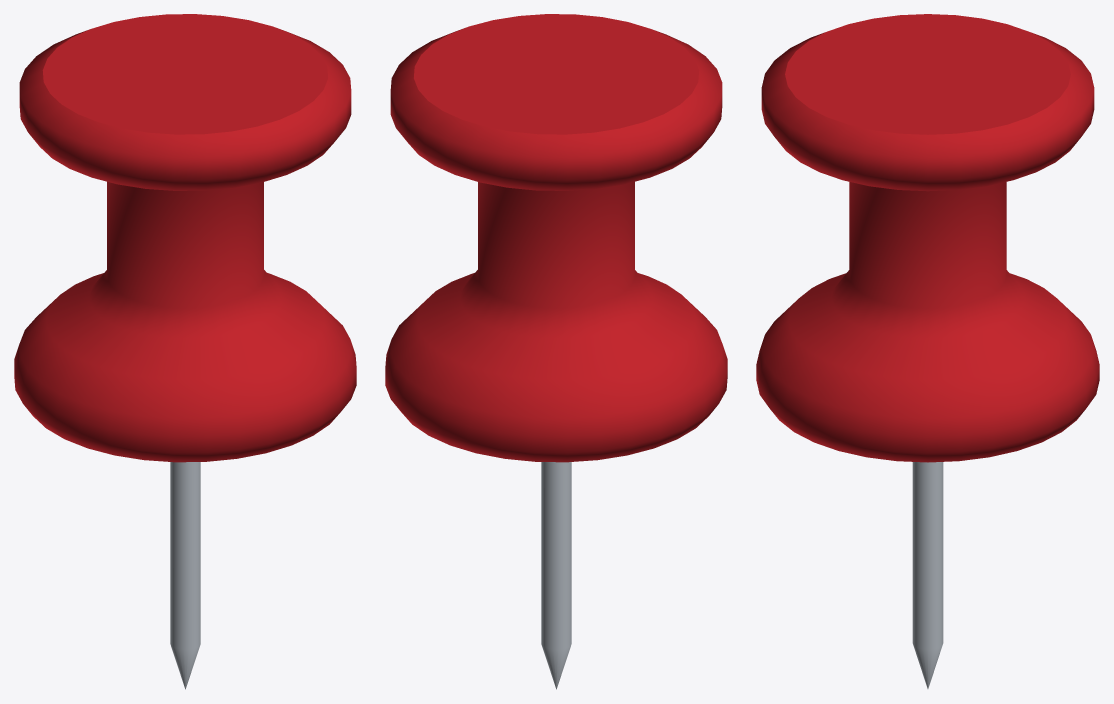
File: pushpin_LOD1.glb
3 renders of one model, left to right at view 1: azimuth 30°, elevation 25°; view 2: azimuth 150°, elevation 25°; view 3: azimuth 270°, elevation 25°, orthographic.
Visible parts, largest first — view 1: Molded_plastic_head, Embedded_steel_pin; view 2: Molded_plastic_head, Embedded_steel_pin; view 3: Molded_plastic_head, Embedded_steel_pin.
Part boxes in pixels (x1=…): Molded_plastic_head: x1=14, y1=14, x2=356, y2=462; Embedded_steel_pin: x1=170, y1=462, x2=200, y2=689; Molded_plastic_head: x1=385, y1=14, x2=727, y2=462; Embedded_steel_pin: x1=541, y1=462, x2=571, y2=689; Molded_plastic_head: x1=756, y1=14, x2=1099, y2=462; Embedded_steel_pin: x1=912, y1=462, x2=943, y2=688.
Bounding box in the file's own units: 0.0096 × 0.019 × 0.0096.
